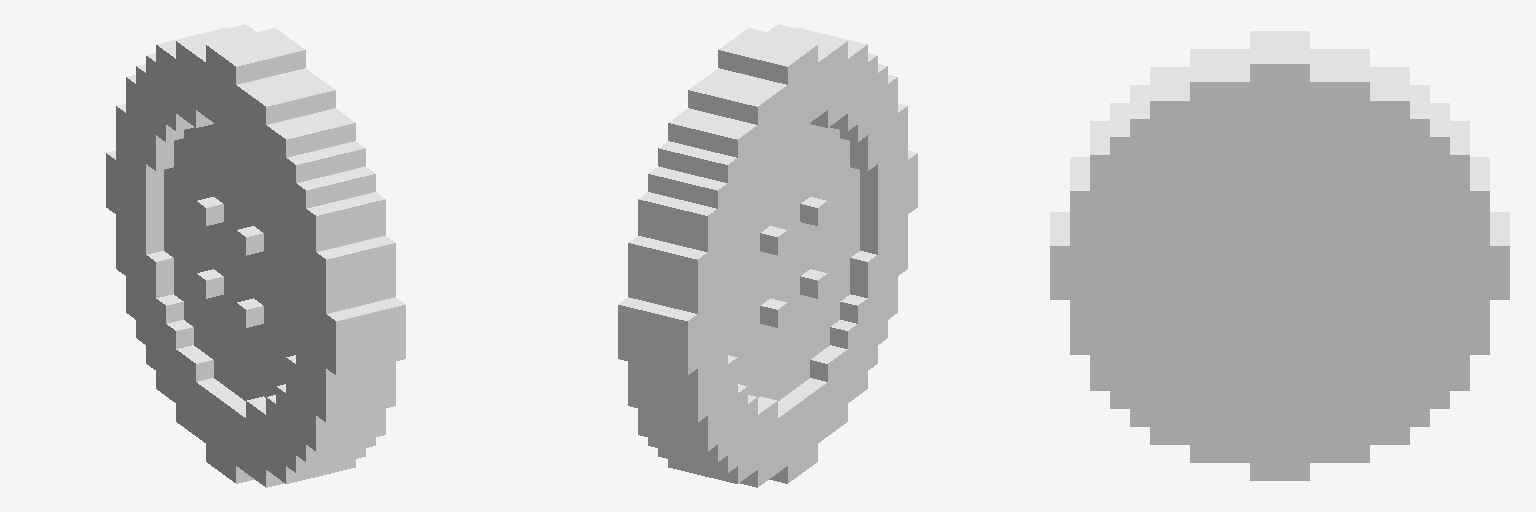
The model's file is TruckWheel.obj.
3 views of the same model, side by side, from view 1: azimuth 30°, elevation 25°; view 2: azimuth 150°, elevation 25°; view 3: azimuth 270°, elevation 25° (orthographic).
Parts seen in each view (by area): view 1: object 1; view 2: object 1; view 3: object 1.
Part boxes in pixels (left/top/right/bottom): object 1: left=106, top=24, right=405, bottom=487; object 1: left=618, top=24, right=917, bottom=487; object 1: left=1050, top=31, right=1509, bottom=480.
Bounding box in the file's own units: 0.4 × 2.3 × 2.3.